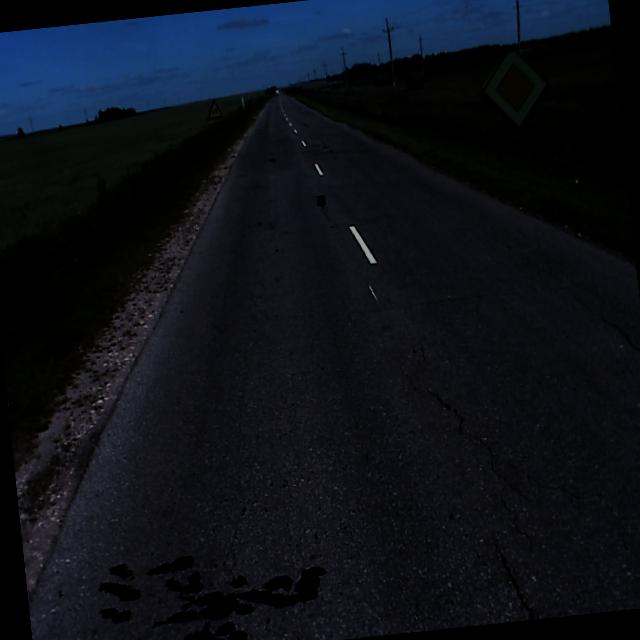road: (28, 93, 640, 640)
